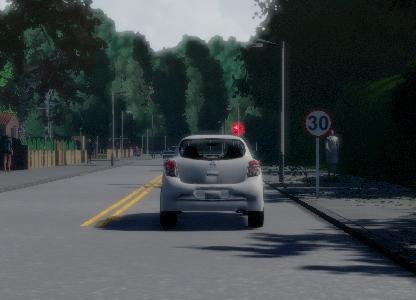Speed_30: (302, 105, 334, 141)
